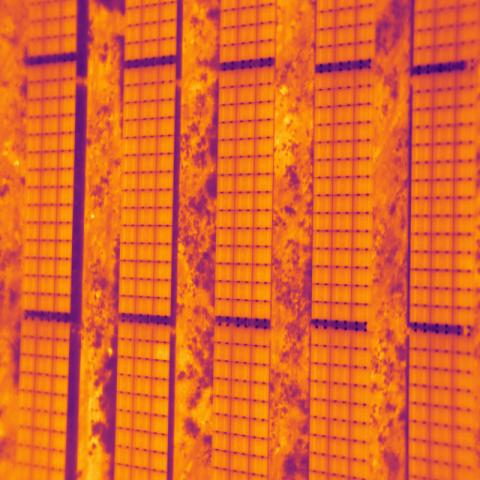fault: (152, 343, 171, 364)
